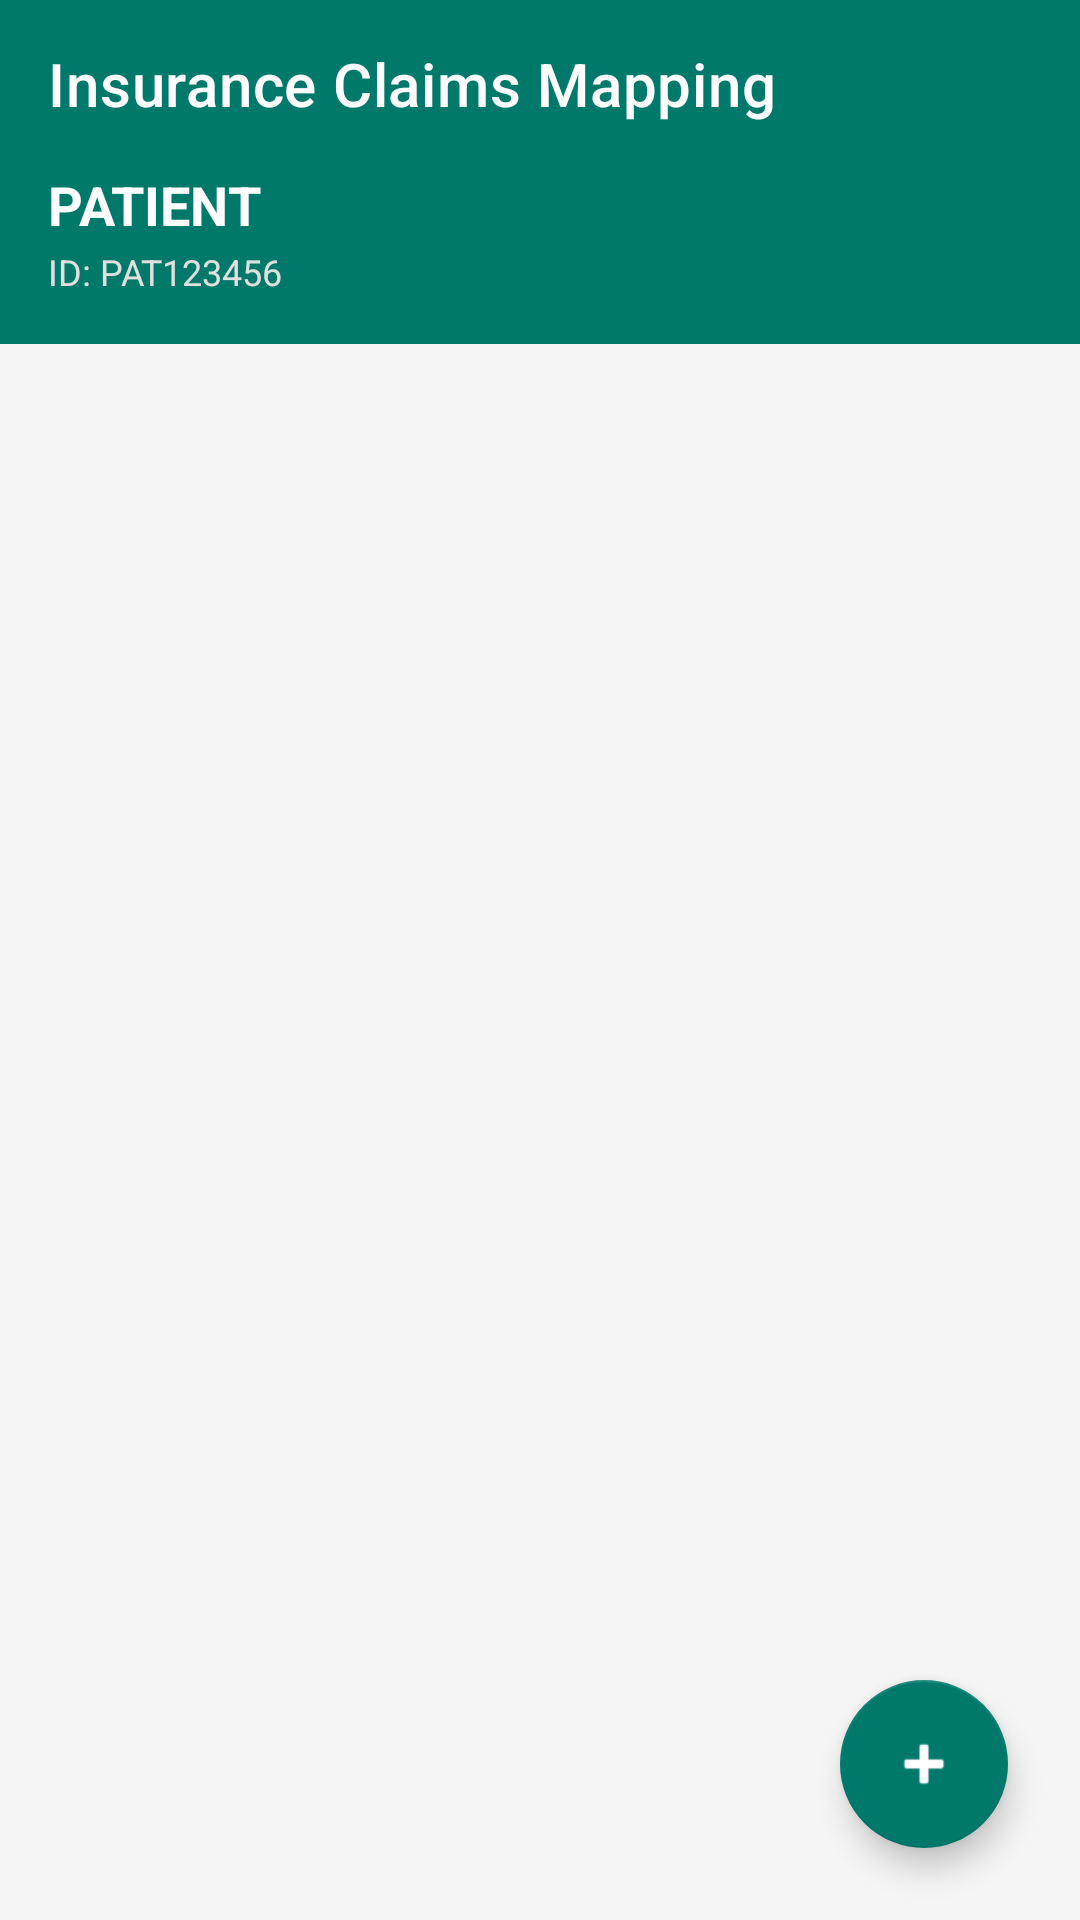

Where to tap for icons on this 1080 x 1920 app screen, as [x,y]:
Quick Add Claim: [924,1764]
